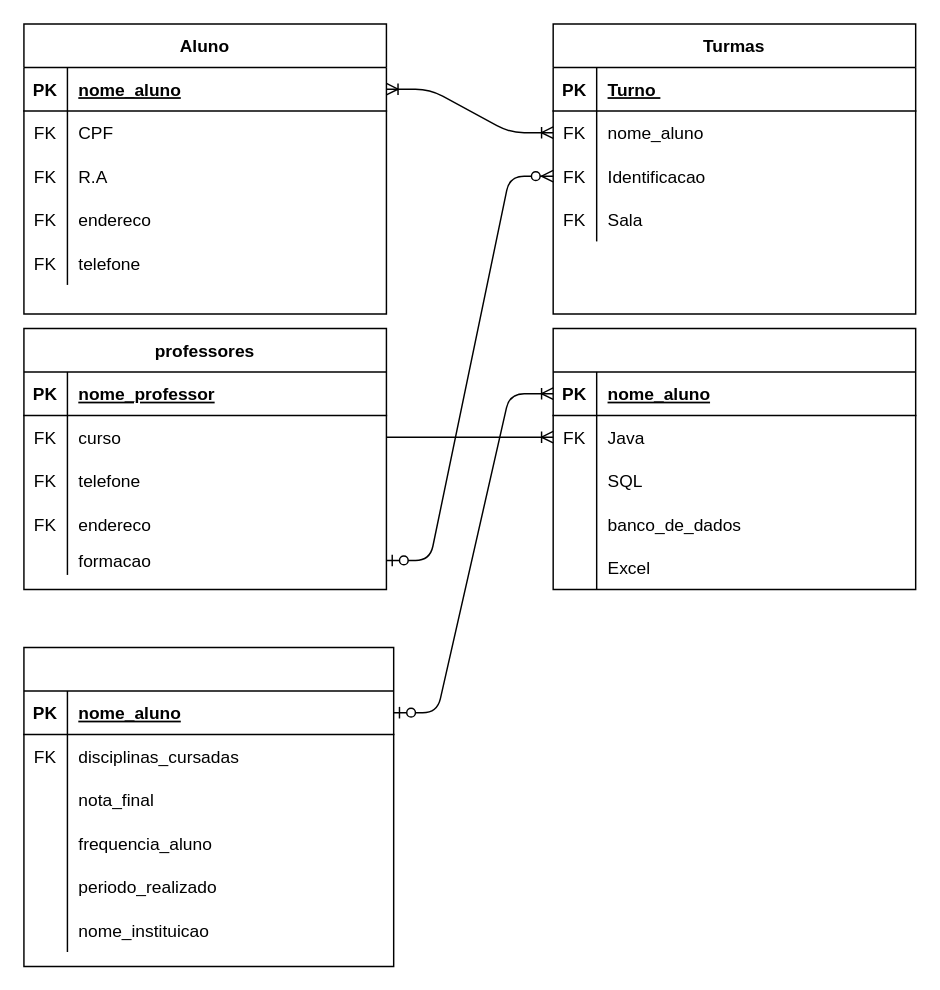
Some shapes in this 940 by 990 pixel diagram are drawn without their labels. The box of each missing label's shape, as (x1, y1, x2, y2) in pixels:
Cursos: (552, 327, 916, 589)
historico_escolar: (22, 646, 394, 966)
